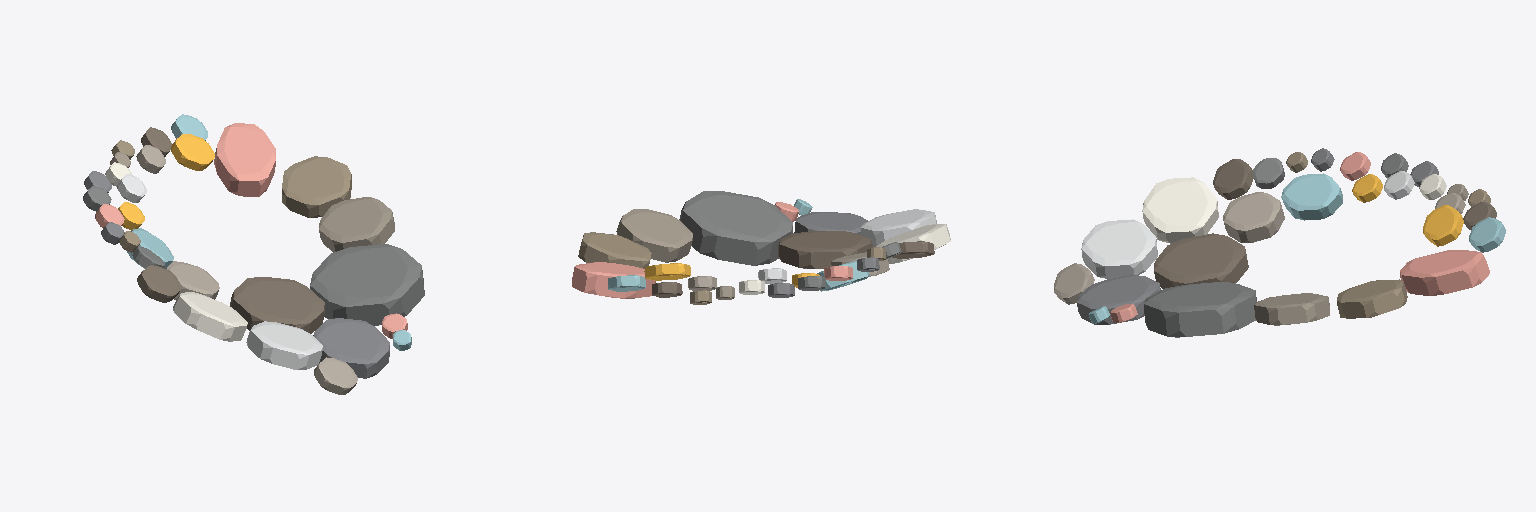
File: multi.obj
3 renders of one model, left to right at view 1: azimuth 30°, elevation 25°; view 2: azimuth 150°, elevation 25°; view 3: azimuth 270°, elevation 25°, orthographic.
Visible parts, largest first — view 1: Cylinder.001_Cylinder.002, Cylinder, Cylinder.005_Cylinder.006, Cylinder.003_Cylinder.004, Cylinder.004_Cylinder.005, Cylinder.002_Cylinder.003, Cylinder.020_Cylinder.021, Cylinder.021_Cylinder.022, Cylinder.022_Cylinder.023, Cylinder.028_Cylinder.029, Cylinder.019_Cylinder.020, Cylinder.006_Cylinder.007 (+4 smaller); view 2: Cylinder.001_Cylinder.002, Cylinder.004_Cylinder.005, Cylinder, Cylinder.003_Cylinder.004, Cylinder.005_Cylinder.006, Cylinder.020_Cylinder.021, Cylinder.002_Cylinder.003, Cylinder.021_Cylinder.022, Cylinder.019_Cylinder.020, Cylinder.018_Cylinder.019, Cylinder.022_Cylinder.023; view 3: Cylinder.001_Cylinder.002, Cylinder, Cylinder.021_Cylinder.022, Cylinder.020_Cylinder.021, Cylinder.005_Cylinder.006, Cylinder.006_Cylinder.007, Cylinder.002_Cylinder.003, Cylinder.007_Cylinder.008, Cylinder.003_Cylinder.004, Cylinder.004_Cylinder.005, Cylinder.022_Cylinder.023, Cylinder.019_Cylinder.020 (+7 smaller).
Boxes of the visible parts, <box> form: Cylinder.001_Cylinder.002: <box>310,244,424,325</box>; Cylinder: <box>230,277,324,333</box>; Cylinder.005_Cylinder.006: <box>214,123,275,196</box>; Cylinder.003_Cylinder.004: <box>282,156,351,217</box>; Cylinder.004_Cylinder.005: <box>319,197,394,252</box>; Cylinder.002_Cylinder.003: <box>313,318,389,378</box>; Cylinder.020_Cylinder.021: <box>246,321,322,369</box>; Cylinder.021_Cylinder.022: <box>173,292,247,341</box>; Cylinder.022_Cylinder.023: <box>137,265,181,302</box>; Cylinder.028_Cylinder.029: <box>314,357,357,394</box>; Cylinder.019_Cylinder.020: <box>171,134,214,170</box>; Cylinder.006_Cylinder.007: <box>166,261,219,299</box>; Cylinder.001_Cylinder.002: <box>679,191,792,265</box>; Cylinder.004_Cylinder.005: <box>616,209,692,262</box>; Cylinder: <box>778,231,872,268</box>; Cylinder.003_Cylinder.004: <box>578,232,651,268</box>; Cylinder.005_Cylinder.006: <box>572,262,655,298</box>; Cylinder.020_Cylinder.021: <box>861,209,936,246</box>; Cylinder.002_Cylinder.003: <box>794,212,867,234</box>; Cylinder.021_Cylinder.022: <box>876,224,950,263</box>; Cylinder.019_Cylinder.020: <box>644,263,690,280</box>; Cylinder.018_Cylinder.019: <box>608,275,645,291</box>; Cylinder.022_Cylinder.023: <box>892,241,934,258</box>; Cylinder.001_Cylinder.002: <box>1144,282,1256,337</box>; Cylinder: <box>1154,233,1248,288</box>; Cylinder.021_Cylinder.022: <box>1142,177,1218,243</box>; Cylinder.020_Cylinder.021: <box>1081,219,1157,278</box>; Cylinder.005_Cylinder.006: <box>1400,250,1489,295</box>; Cylinder.006_Cylinder.007: <box>1223,192,1284,242</box>; Cylinder.002_Cylinder.003: <box>1077,275,1160,324</box>; Cylinder.007_Cylinder.008: <box>1281,173,1342,220</box>; Cylinder.003_Cylinder.004: <box>1337,279,1407,318</box>; Cylinder.004_Cylinder.005: <box>1254,293,1329,325</box>; Cylinder.022_Cylinder.023: <box>1213,159,1253,199</box>; Cylinder.019_Cylinder.020: <box>1423,205,1463,246</box>.
Bounding box in the file's own units: 15.87 × 5.78 × 22.3.